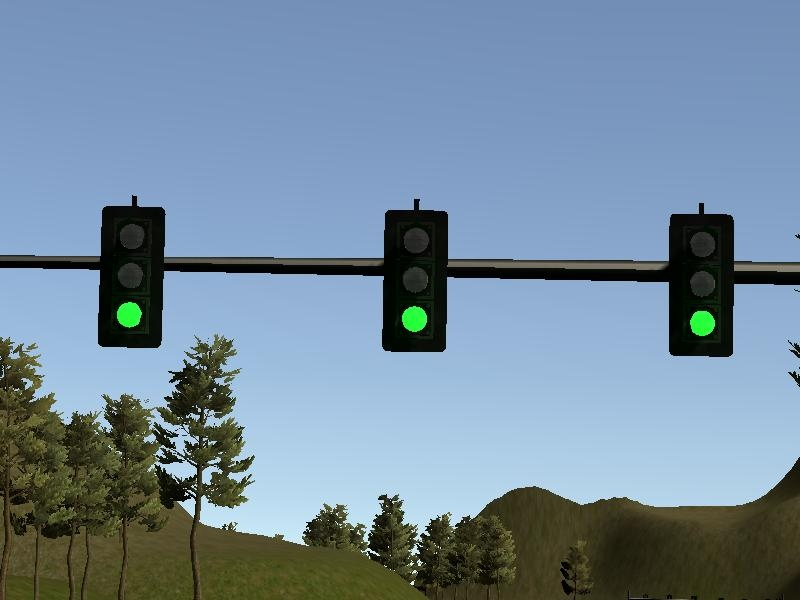green: (667, 214, 734, 359), (383, 207, 447, 353), (99, 206, 163, 349)
